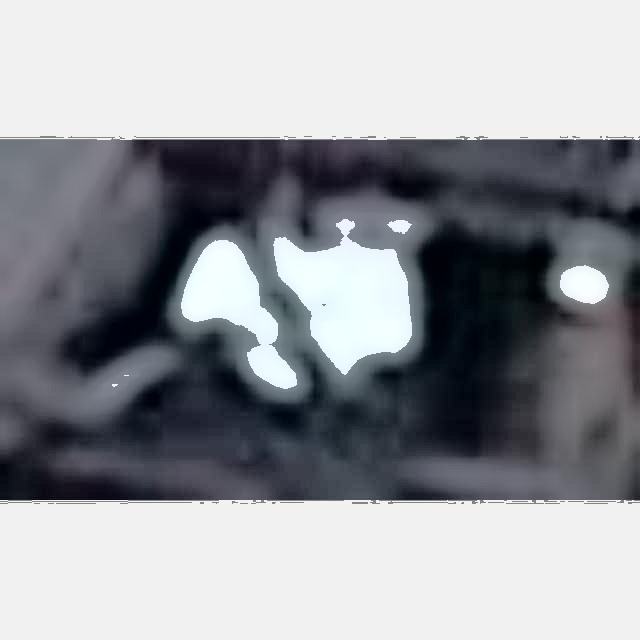pakai: (180, 180, 440, 450)
